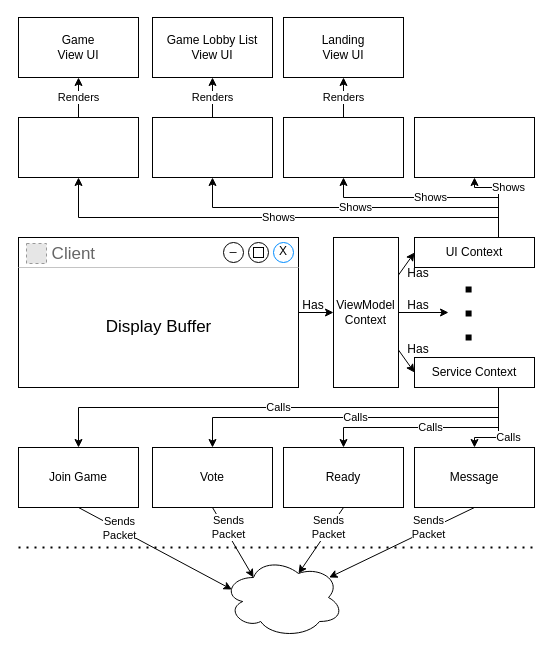
Some shapes in this 553 by 655 pixel diagram are drawn without their labels. Grey dashed boxes stand in for pictures. The shapes that lost their labels are listed below. From the top down, each one's centre as x and y in pixels, then its label:
pixel 78 147: Game Screen
pixel 212 147: Game Lobby List Screen
pixel 343 147: Landing Screen
pixel 474 147: Dialogs
pixel 283 597: Server
